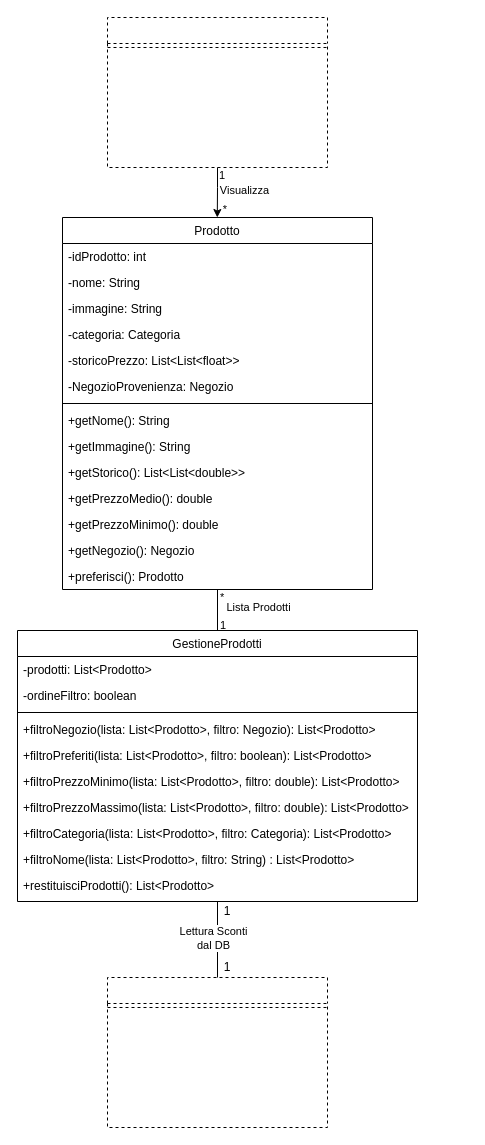
Image size: 485x1145. Some labels were removed from this diagram. Each missing label, with the centre of its shape:
"LetturaDBDati" belongs at (217,1052).
"Utente" belongs at (217,92).
